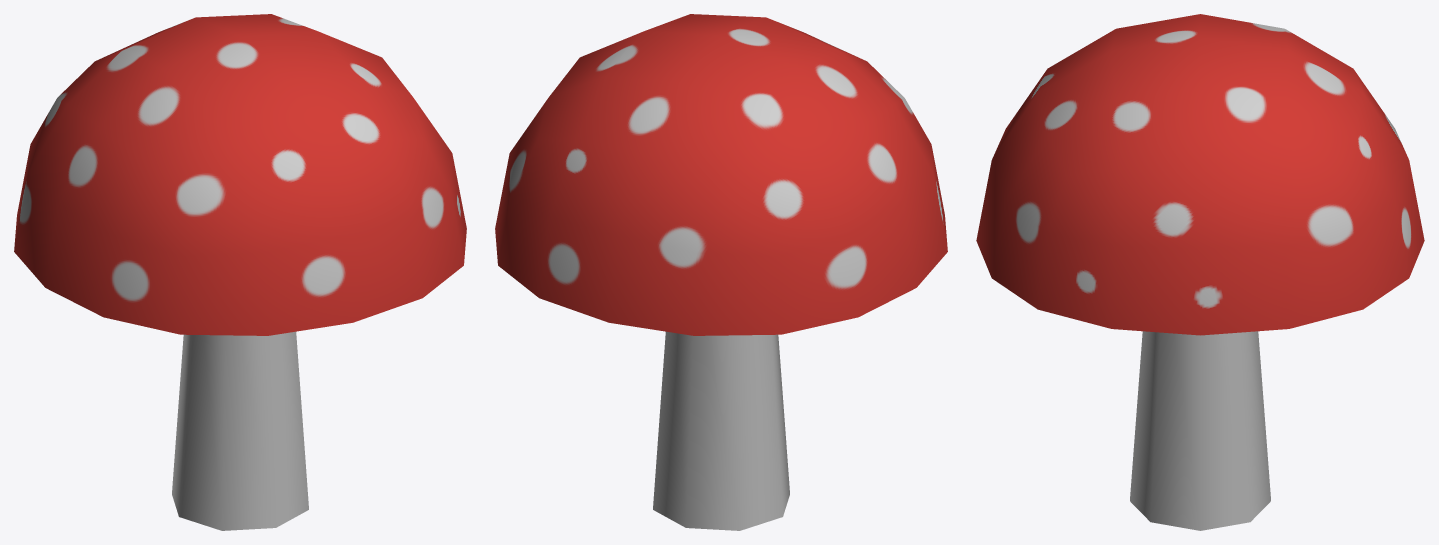
File: mushroom.fbx
3 views of the same model, side by side, from view 1: azimuth 30°, elevation 25°; view 2: azimuth 150°, elevation 25°; view 3: azimuth 270°, elevation 25° (orthographic).
Parts seen in each view (by area): view 1: mushroom; view 2: mushroom; view 3: mushroom.
Boxes of the visible parts, x1,y1,x2,y2 form: mushroom: [14, 14, 466, 530]; mushroom: [495, 14, 947, 530]; mushroom: [976, 14, 1424, 530].
Size of the model in its own units: 105 by 120 by 105.
